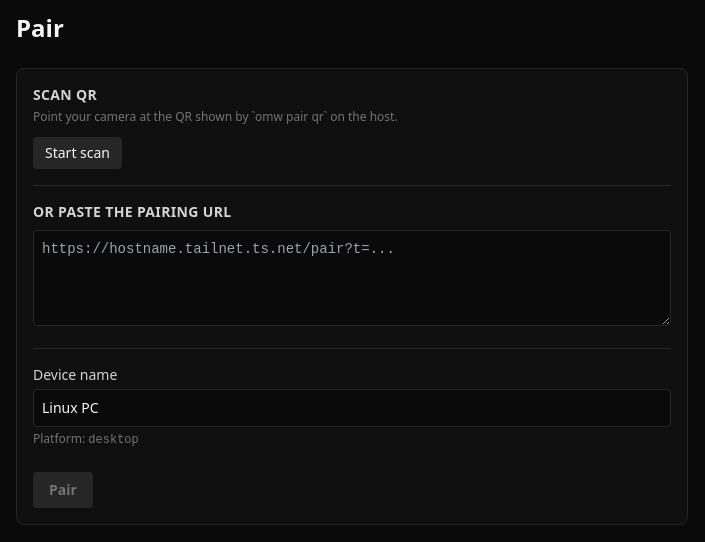
Scenario: Pair page › disables Pair button until a valid URL is pasted, then enables it
Expected: the button "Pair" is disabled, [33, 472, 93, 508]
Type "https://h.example/pair?t=ABC123" into the text box named "Pairing URL". click: [352, 278]
box: [33, 230, 671, 326]
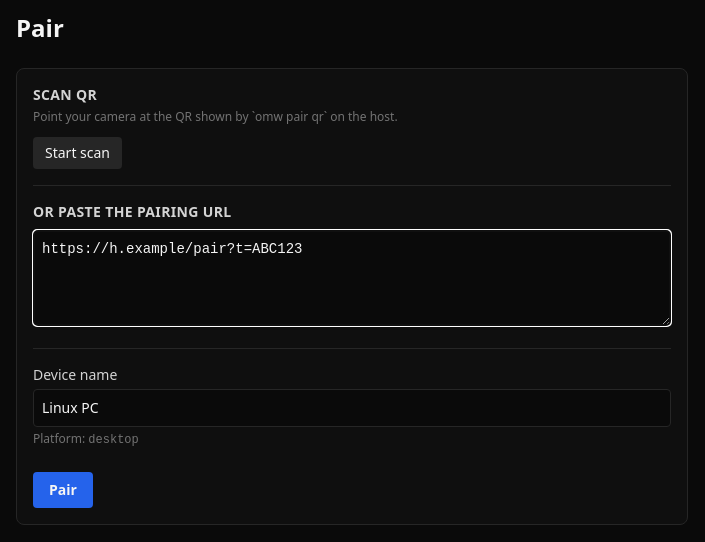
Expected: the button "Pair" is enabled, [33, 472, 93, 508]
